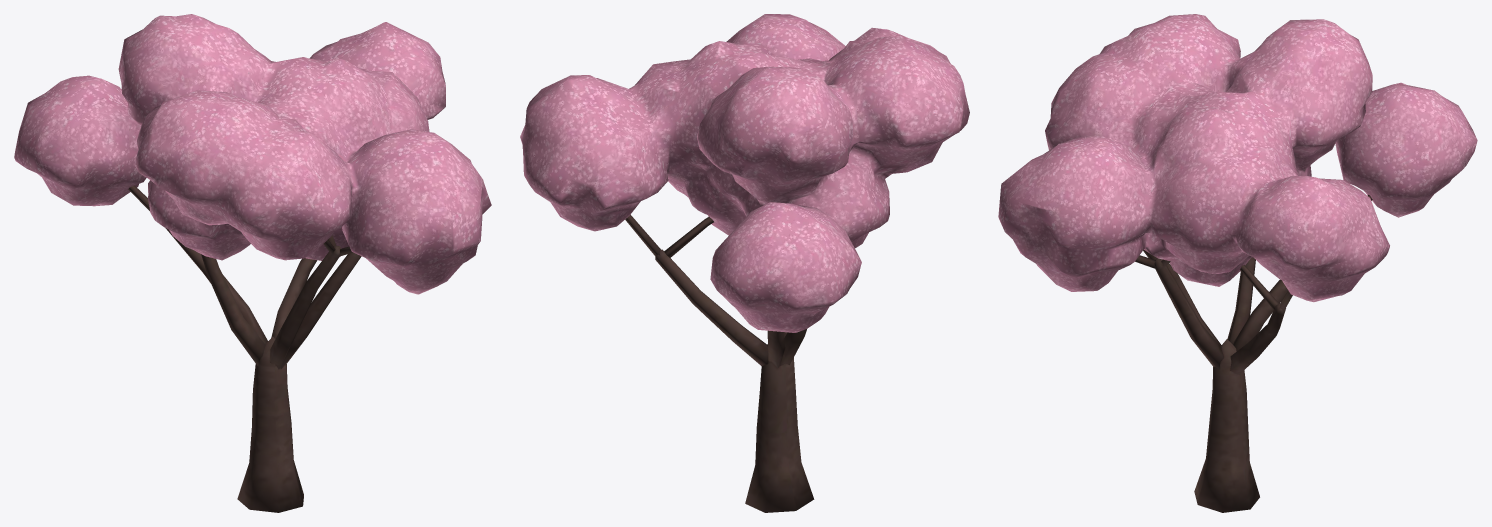
File: sakuratreelarge.glb
3 renders of one model, left to right at view 1: azimuth 30°, elevation 25°; view 2: azimuth 150°, elevation 25°; view 3: azimuth 270°, elevation 25°, orthographic. The views are drawn at different scales.
Visible parts, largest first — view 1: SakuraTree_Large_Canopy, SakuraTree_Large_Trunk; view 2: SakuraTree_Large_Canopy, SakuraTree_Large_Trunk; view 3: SakuraTree_Large_Canopy, SakuraTree_Large_Trunk.
Boxes of the visible parts, box(x1,y1,x2,y2) form: SakuraTree_Large_Canopy: box(14, 14, 491, 294); SakuraTree_Large_Trunk: box(128, 185, 361, 512); SakuraTree_Large_Canopy: box(520, 14, 969, 332); SakuraTree_Large_Trunk: box(625, 214, 814, 512); SakuraTree_Large_Canopy: box(998, 14, 1477, 302); SakuraTree_Large_Trunk: box(1135, 194, 1372, 512).
Size of the model in its own units: 22.89 by 27.88 by 26.84.
2 materials, 2 textured.
